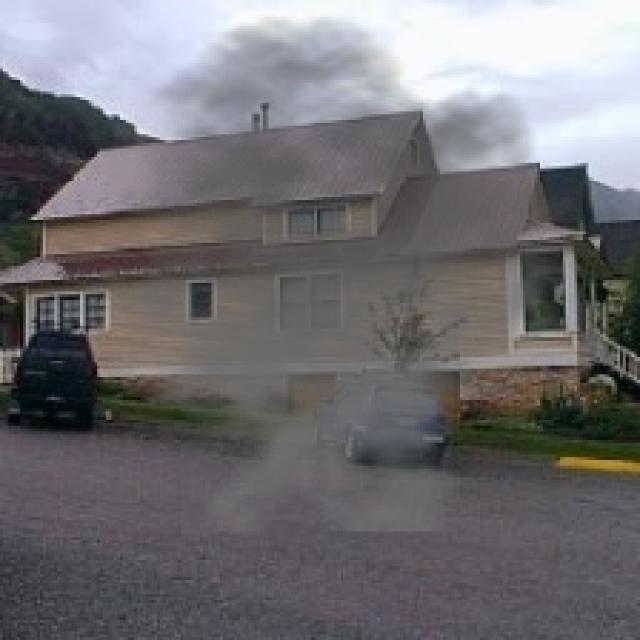Smoke: (60, 14, 583, 532)
